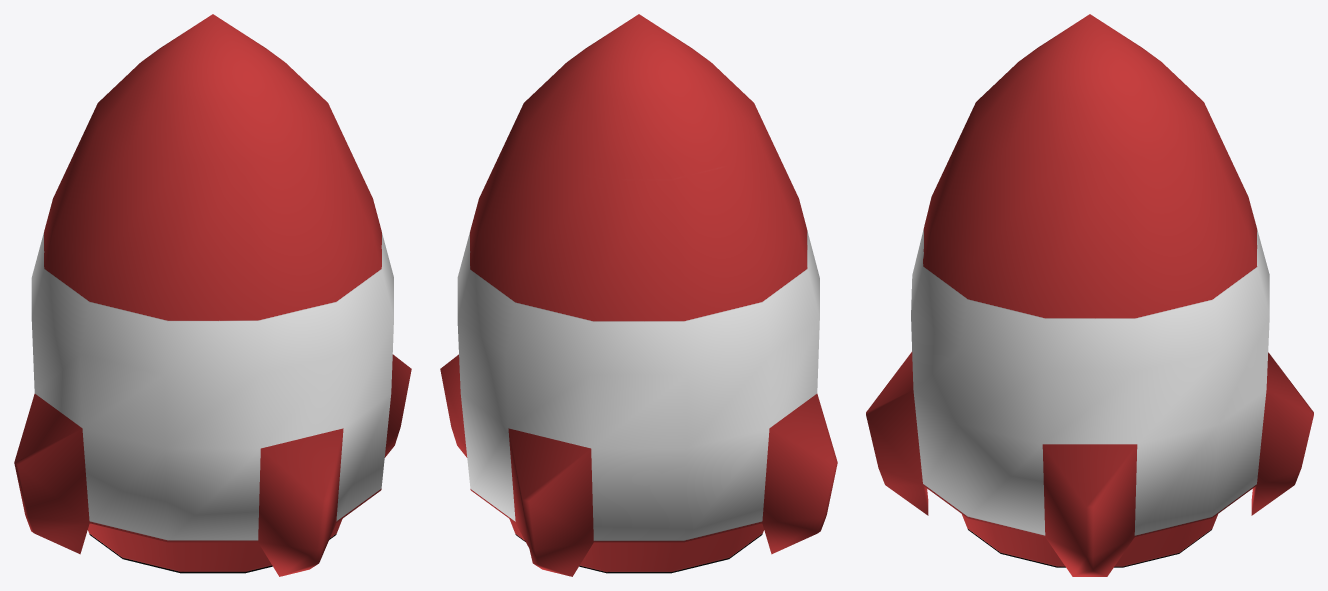
File: rocket.fbx
The picture shows the model from 3 angles, left to right: view 1: azimuth 30°, elevation 25°; view 2: azimuth 150°, elevation 25°; view 3: azimuth 270°, elevation 25°; orthographic projection.
Parts seen in each view (by area): view 1: Cylinder; view 2: Cylinder; view 3: Cylinder.
Boxes of the visible parts, x1,y1,x2,y2 form: Cylinder: (14, 14, 411, 576); Cylinder: (440, 14, 837, 576); Cylinder: (866, 14, 1313, 576).
Bounding box in the file's own units: 316 × 389 × 314.
Materials: 1 (1 with a texture image).
